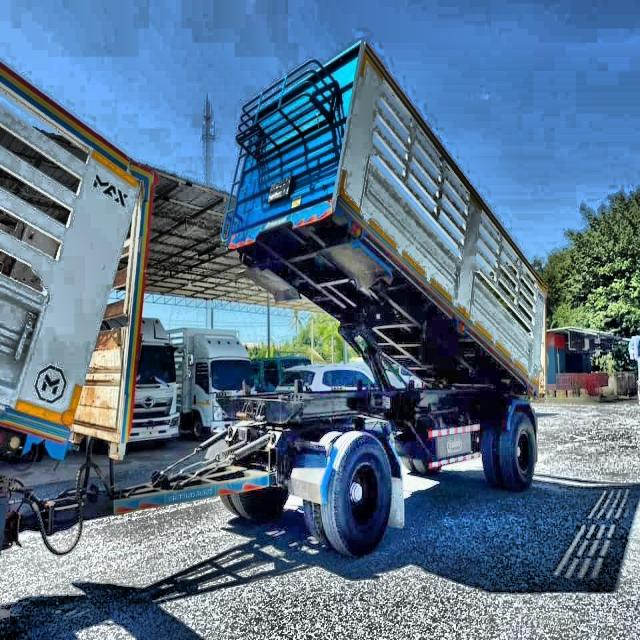trailer: (0, 31, 561, 584)
